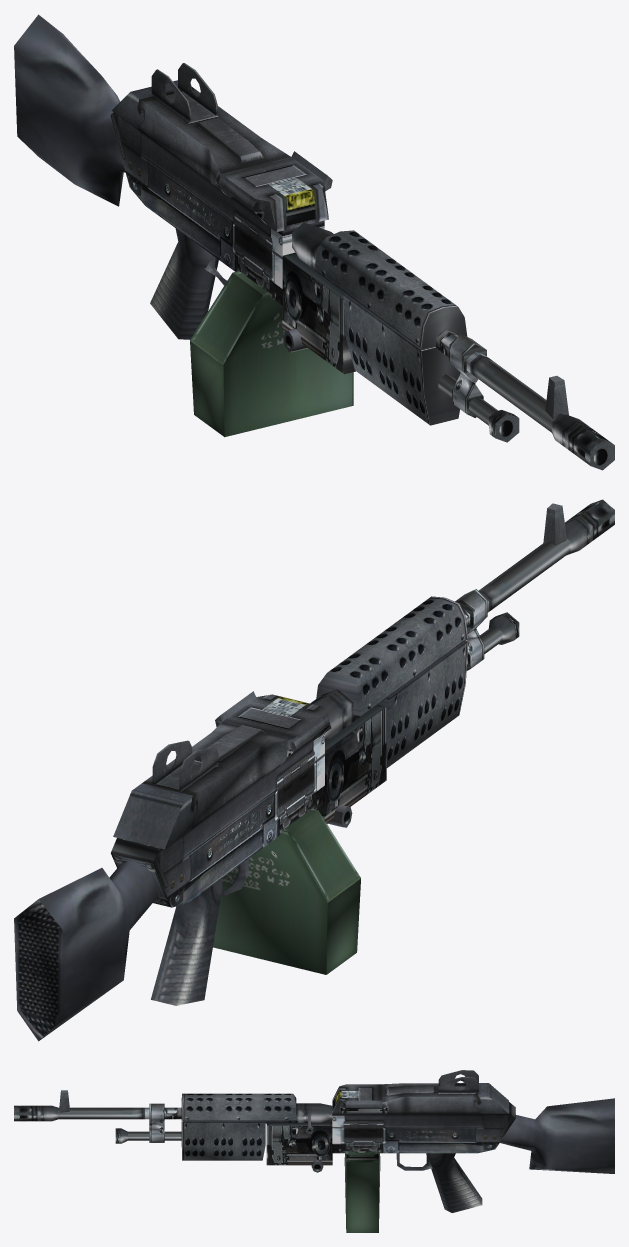
3 views of the same model, one above another, from view 1: azimuth 30°, elevation 25°; view 2: azimuth 150°, elevation 25°; view 3: azimuth 270°, elevation 25° (orthographic). The views are drawn at different scales.
Parts seen in each view (by area): view 1: _m58_3rd; view 2: _m58_3rd; view 3: _m58_3rd.
Boxes of the visible parts, x1,y1,x2,y2 form: _m58_3rd: (14, 14, 614, 470); _m58_3rd: (14, 499, 614, 1041); _m58_3rd: (14, 1070, 614, 1232).
Bounding box in the file's own units: 0.1612 × 0.3136 × 1.2.
2 materials, 2 textured.
